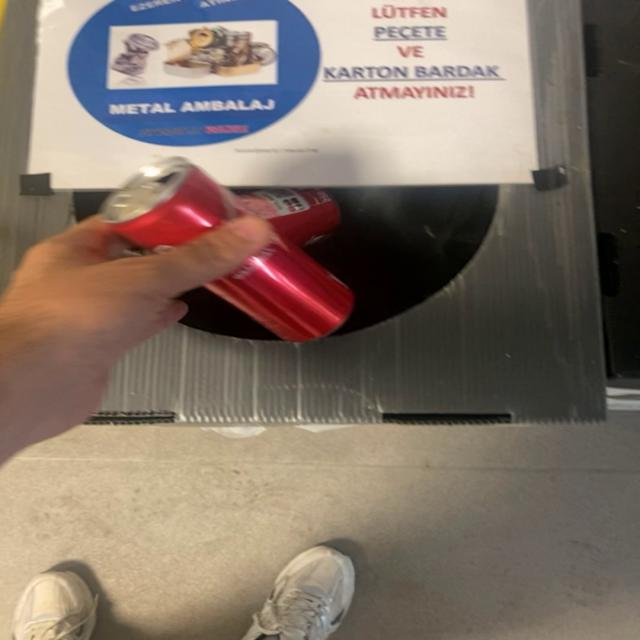bin: (2, 0, 605, 425)
metal: (100, 156, 353, 342)
